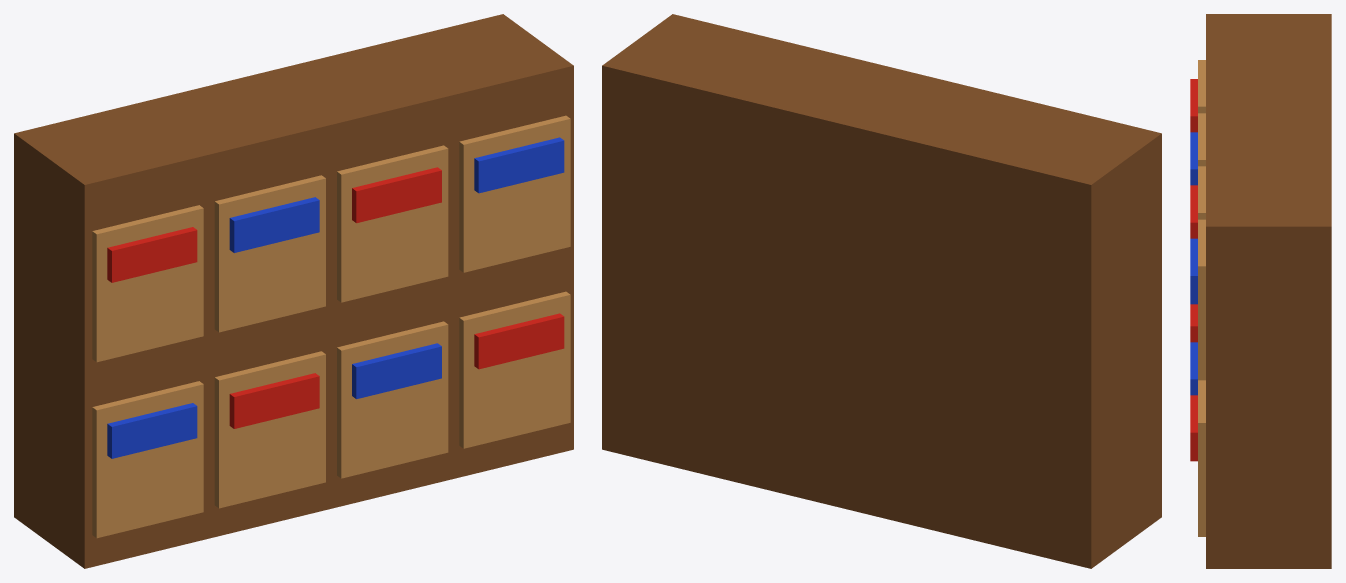
Rendered from shoe_cubby.glb.
3 renders of one model, left to right at view 1: azimuth 30°, elevation 25°; view 2: azimuth 150°, elevation 25°; view 3: azimuth 270°, elevation 25°, orthographic. The views are drawn at different scales.
Parts seen in each view (by area): view 1: shoe_cubby; view 2: shoe_cubby; view 3: shoe_cubby.
Part boxes in pixels (x1=…): shoe_cubby: x1=14, y1=14, x2=573, y2=568; shoe_cubby: x1=602, y1=14, x2=1161, y2=568; shoe_cubby: x1=1190, y1=14, x2=1331, y2=568.
Bounding box in the file's own units: 1.6 × 1.2 × 0.45.
